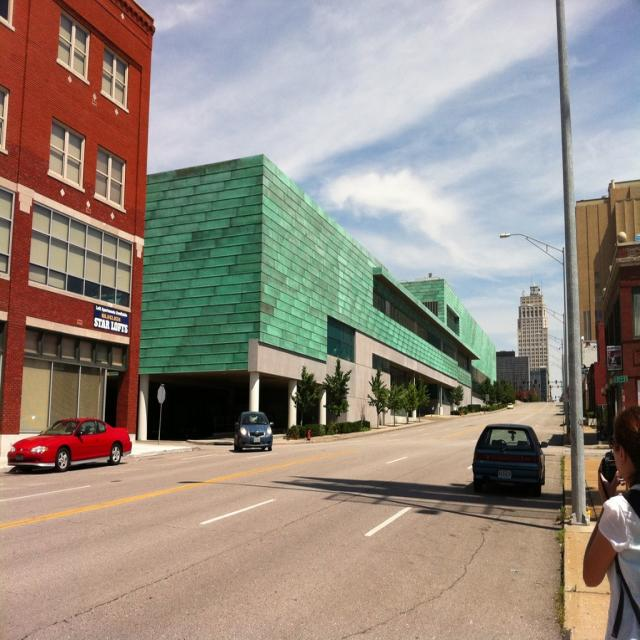car: (2, 416, 137, 477), (467, 424, 546, 495), (232, 408, 274, 453)
